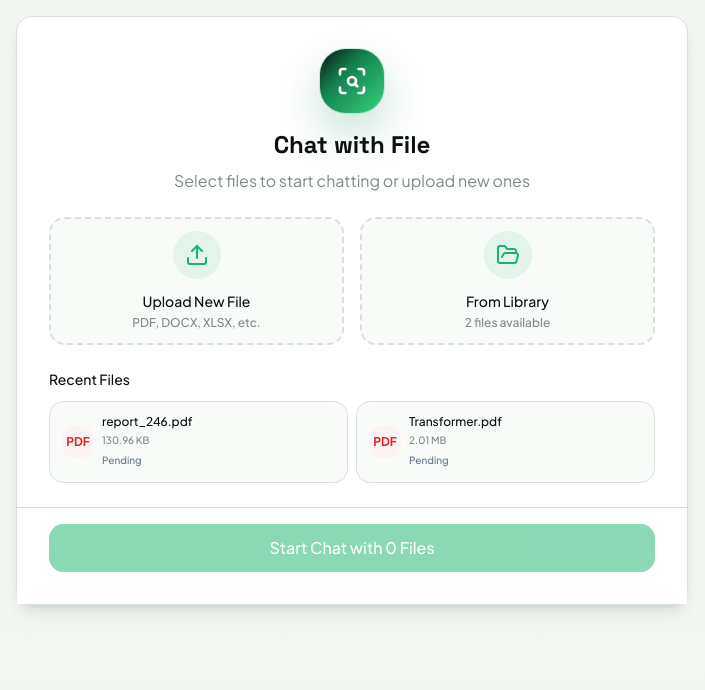
Test: ChatWithFilePage › selects a recent file and enables starting a chat
expect the button "Start Chat with 0 Files" is disabled: met, box top-left (49, 524), bottom-right (655, 572)
Click the button "PDF report_246.pdf 130.96 KB Pending" at (78, 442), box top-left (49, 401), bottom-right (348, 483)
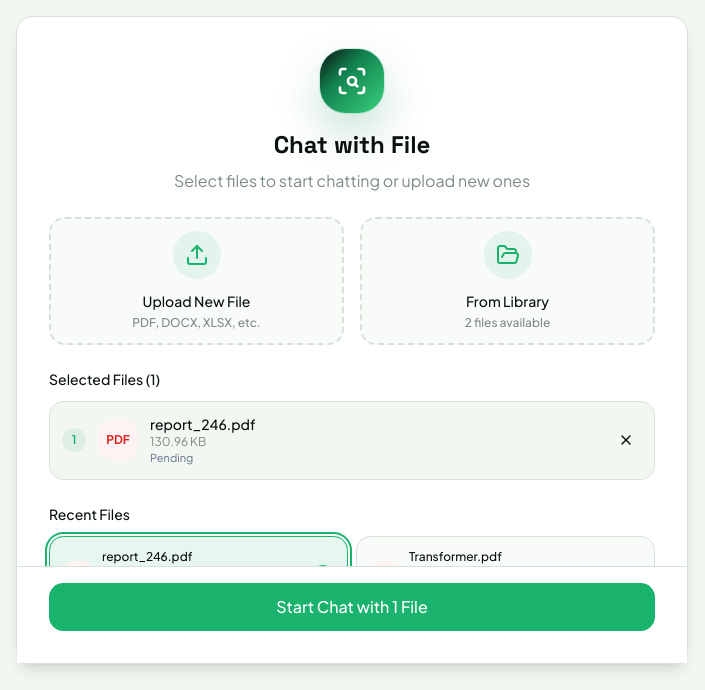
expect the heading "Selected Files (1)" is shown: met, box top-left (49, 370), bottom-right (160, 388)
expect the button "Start Chat with 1 File" is enabled: met, box top-left (49, 583), bottom-right (655, 631)
